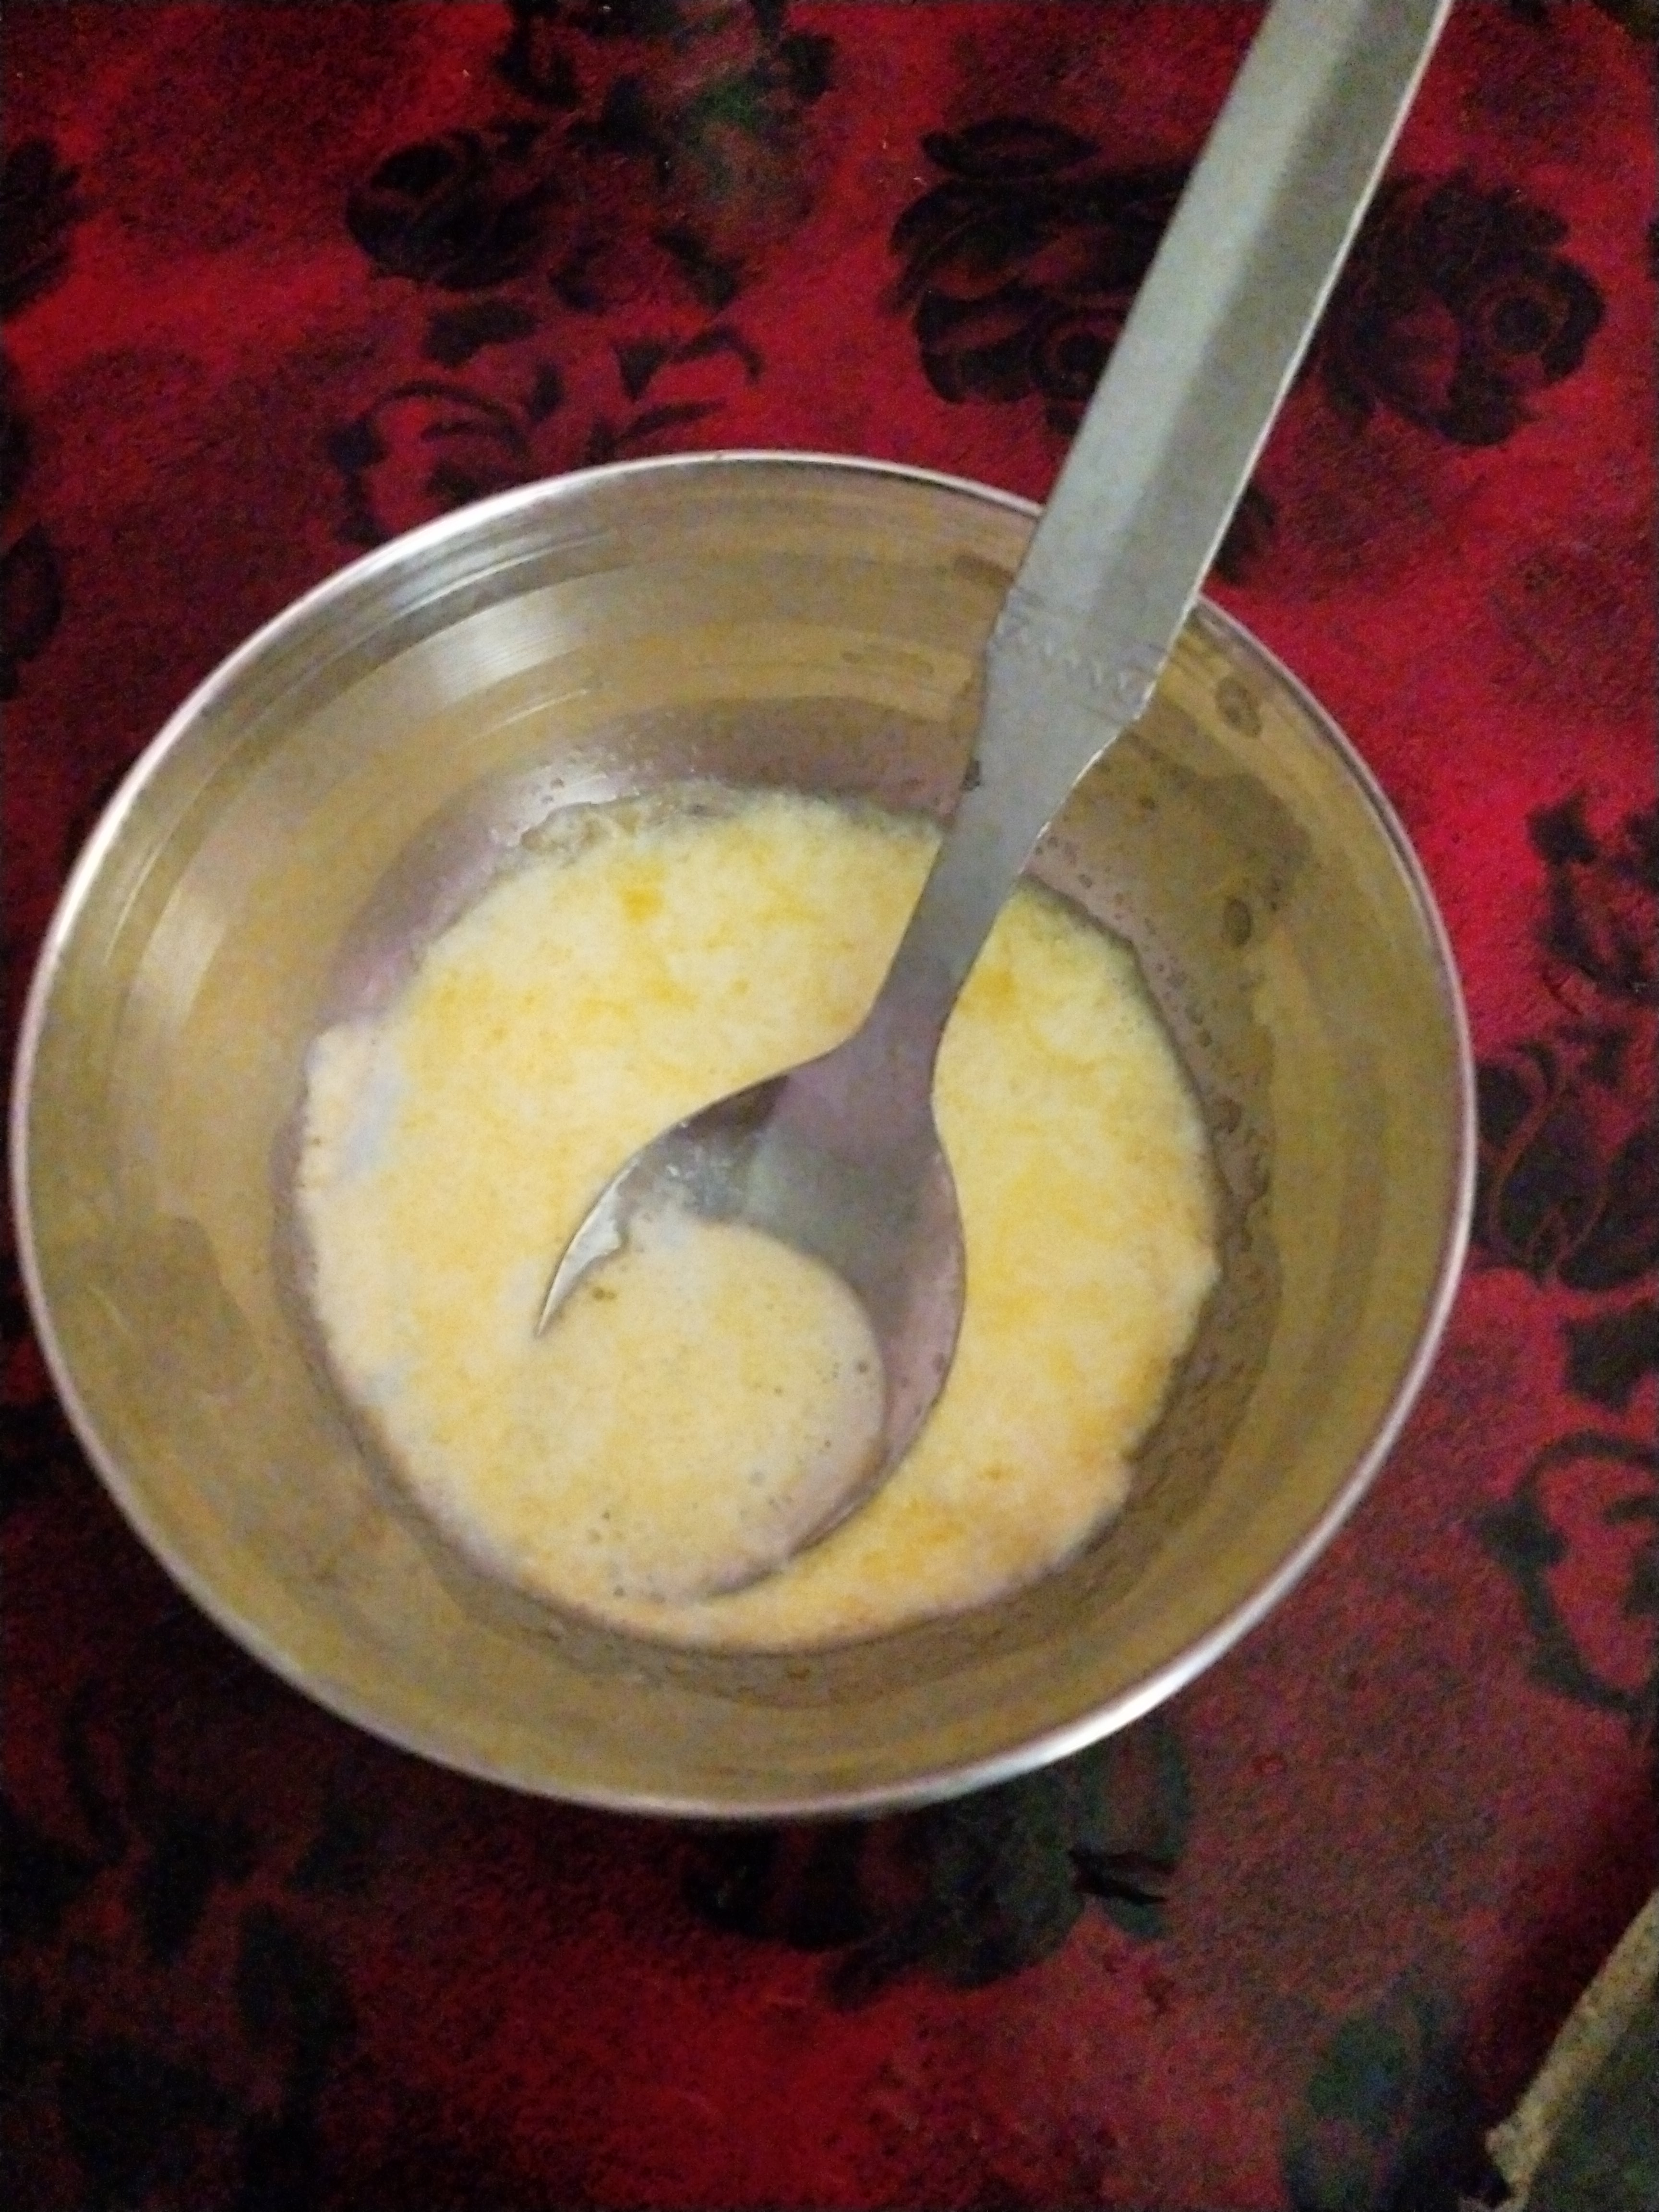food: (256, 756, 1241, 1674)
